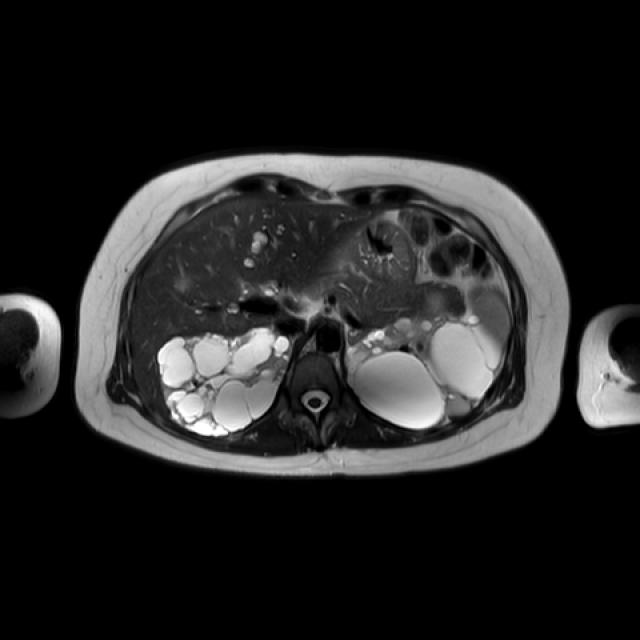sag: (160, 325, 291, 438)
sol: (348, 308, 503, 431)
